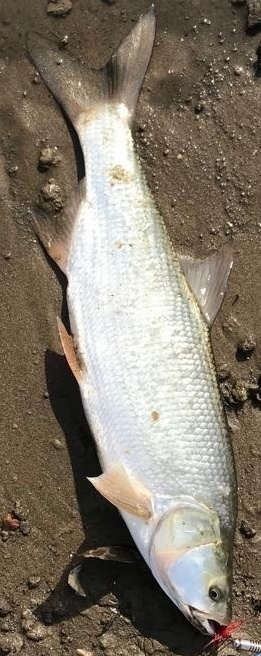Aspius aspius: (20, 20, 241, 636)
